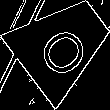O_NE: (31, 12, 95, 77)
